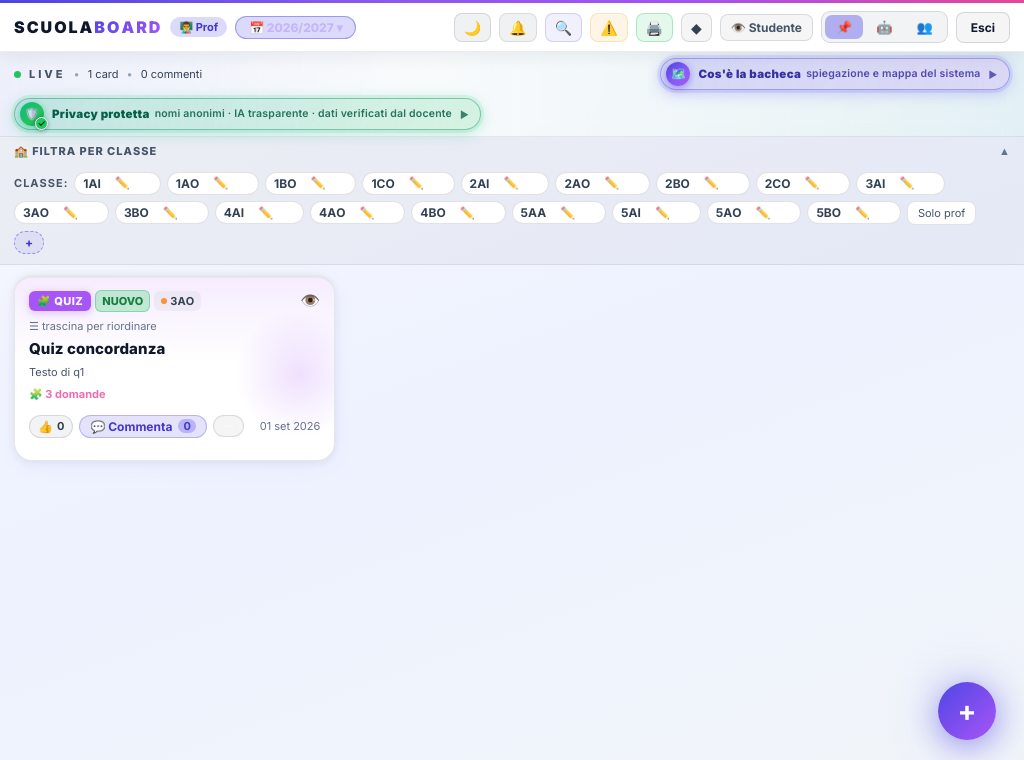
Scenario: Valutazione quiz lato prof › i segni del pannello prof concordano con il punteggio (indice numero vs indice stringa)
Click the text "Quiz concordanza": (97, 348) [29, 338, 165, 358]
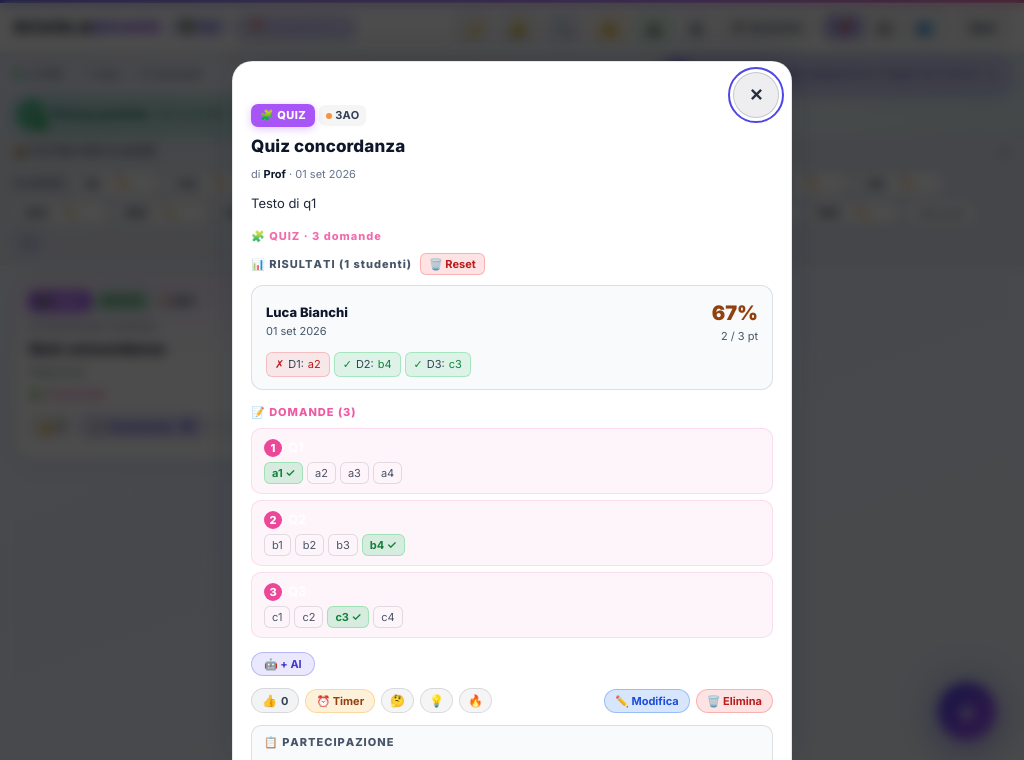
expect the text "📊 RISULTATI (1 studenti)" is shown: met, box [251, 256, 412, 272]
expect the text "67%" is shown: met, box [712, 298, 758, 328]
expect the number of elements with test id "segno-risposta" is 3: met, box [266, 352, 330, 377]; [334, 352, 401, 377]; [405, 352, 471, 377]
